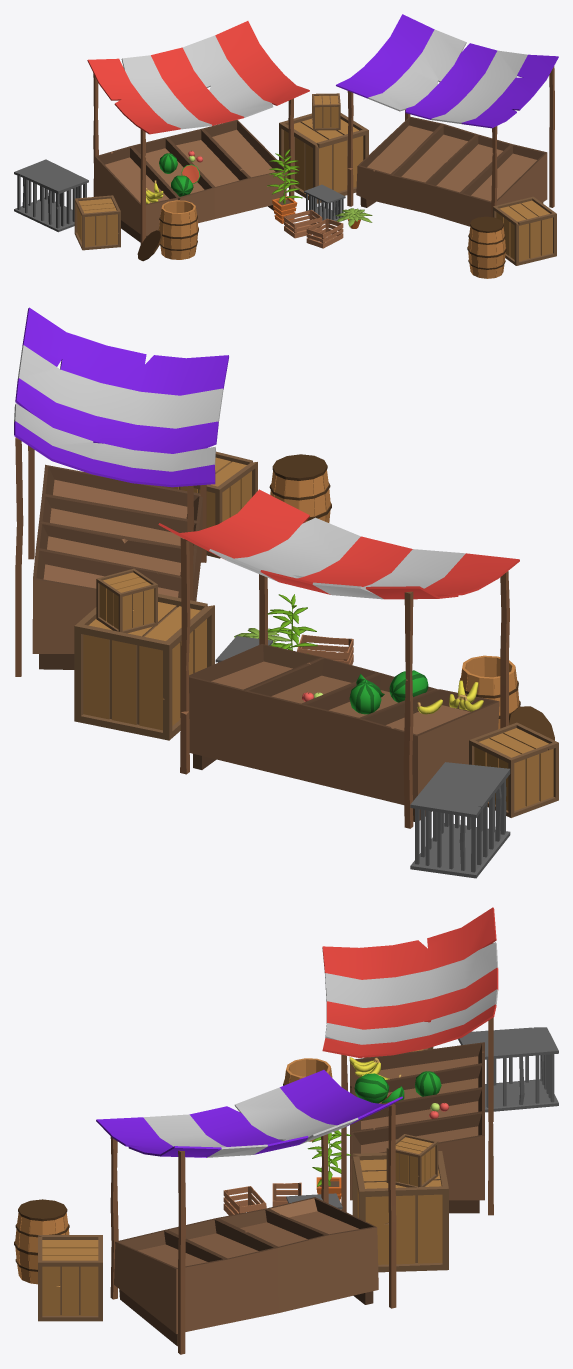
The model's file is low_poly_marketplace.fbx.
The picture shows the model from 3 angles, top to bottom: view 1: azimuth 30°, elevation 25°; view 2: azimuth 150°, elevation 25°; view 3: azimuth 270°, elevation 25°; orthographic projection. The views are drawn at different scales.
Visible parts, largest first — view 1: SunShade2, SunShade1, Marketstand2, Marketstand1, Crate1, Cage1, Crate2, Barrel2, Crate3, Barrel1, Plant2, Crate4 (+5 smaller); view 2: SunShade2, Marketstand1, SunShade1, Marketstand2, Crate1, Cage1, Crate3, Crate4, Barrel1, Crate2, Barrel2, FruitCrate2 (+3 smaller); view 3: Marketstand2, SunShade1, SunShade2, Marketstand1, Crate1, Crate2, Cage1, Barrel1, Crate4, Plant2, FruitCrate2, watermelon (+2 smaller).
Part boxes in pixels (x1,y1,x2,y2): SunShade2: [336, 14, 558, 217]; SunShade1: [87, 21, 309, 244]; Marketstand2: [356, 116, 547, 226]; Marketstand1: [95, 120, 287, 242]; Crate1: [279, 113, 368, 203]; Cage1: [14, 159, 88, 232]; Crate2: [493, 196, 556, 265]; Barrel2: [137, 200, 198, 261]; Crate3: [74, 195, 120, 250]; Barrel1: [467, 216, 506, 278]; Plant2: [267, 149, 302, 223]; Crate4: [312, 93, 340, 130]; SunShade2: [14, 307, 228, 676]; Marketstand1: [189, 644, 499, 821]; SunShade1: [158, 489, 519, 828]; Marketstand2: [32, 464, 202, 669]; Crate1: [74, 593, 214, 740]; Cage1: [410, 762, 510, 878]; Crate3: [469, 722, 558, 817]; Crate4: [96, 568, 157, 633]; Barrel1: [269, 454, 331, 522]; Crate2: [162, 451, 257, 558]; Barrel2: [459, 655, 554, 740]; FruitCrate2: [297, 634, 353, 664]; Marketstand2: [114, 1197, 378, 1346]; SunShade1: [322, 907, 498, 1215]; SunShade2: [96, 1070, 402, 1354]; Marketstand1: [350, 1042, 484, 1213]; Crate1: [352, 1151, 448, 1272]; Crate2: [38, 1235, 102, 1321]; Cage1: [458, 1027, 558, 1112]; Barrel1: [14, 1199, 69, 1284]; Crate4: [386, 1134, 438, 1187]; Plant2: [307, 1130, 351, 1201]; FruitCrate2: [223, 1186, 266, 1215]; watermelon: [354, 1073, 388, 1103].
Bounding box in the file's own units: 687 × 245 × 570.
